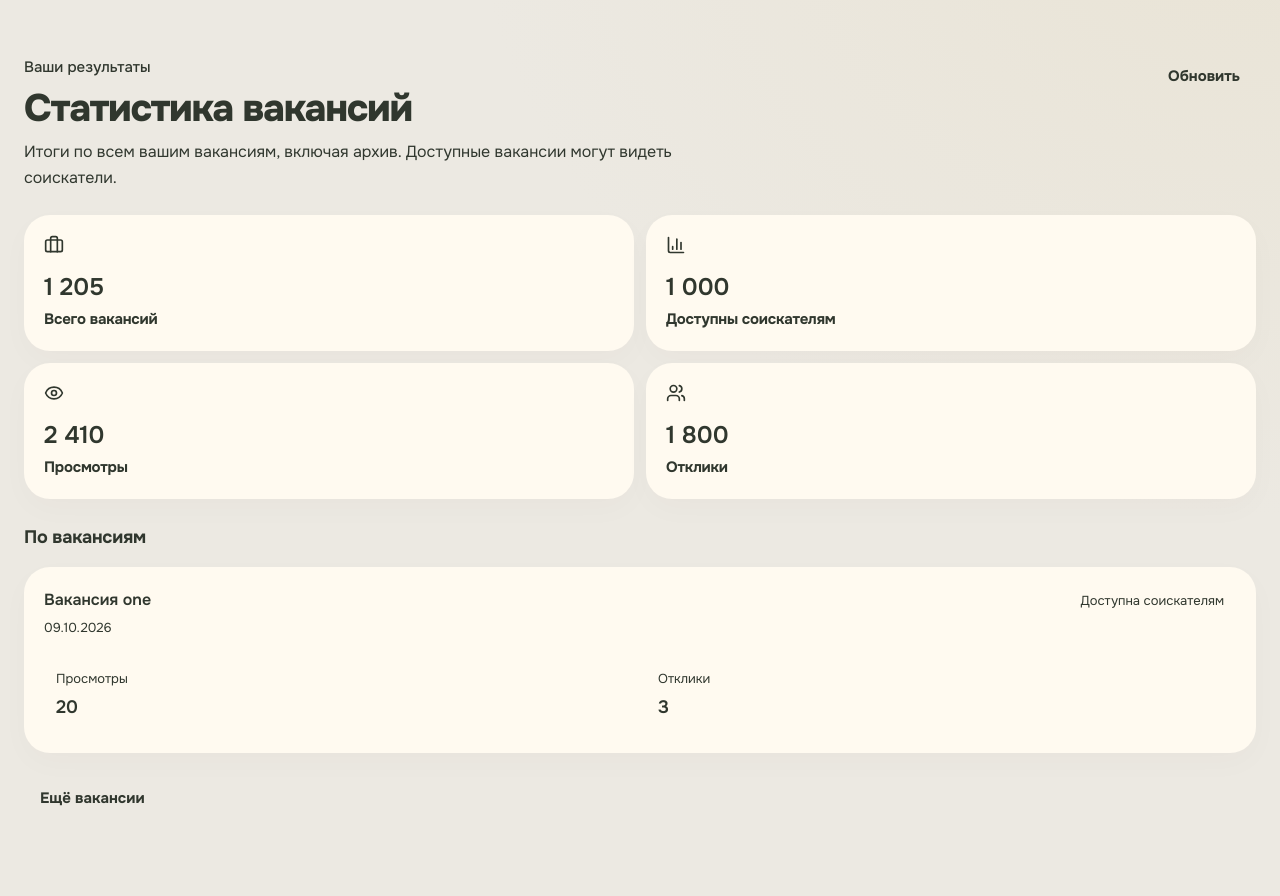
Test: a 401 continuation hides previously loaded private statistics
The image size is (1280, 896).
(page scrolled)
expect the link "Вакансия one" is shown: met, box [44,589,151,610]
Click the button "Ещё вакансии": (92,799) [24,777,161,821]
(page scrolled)
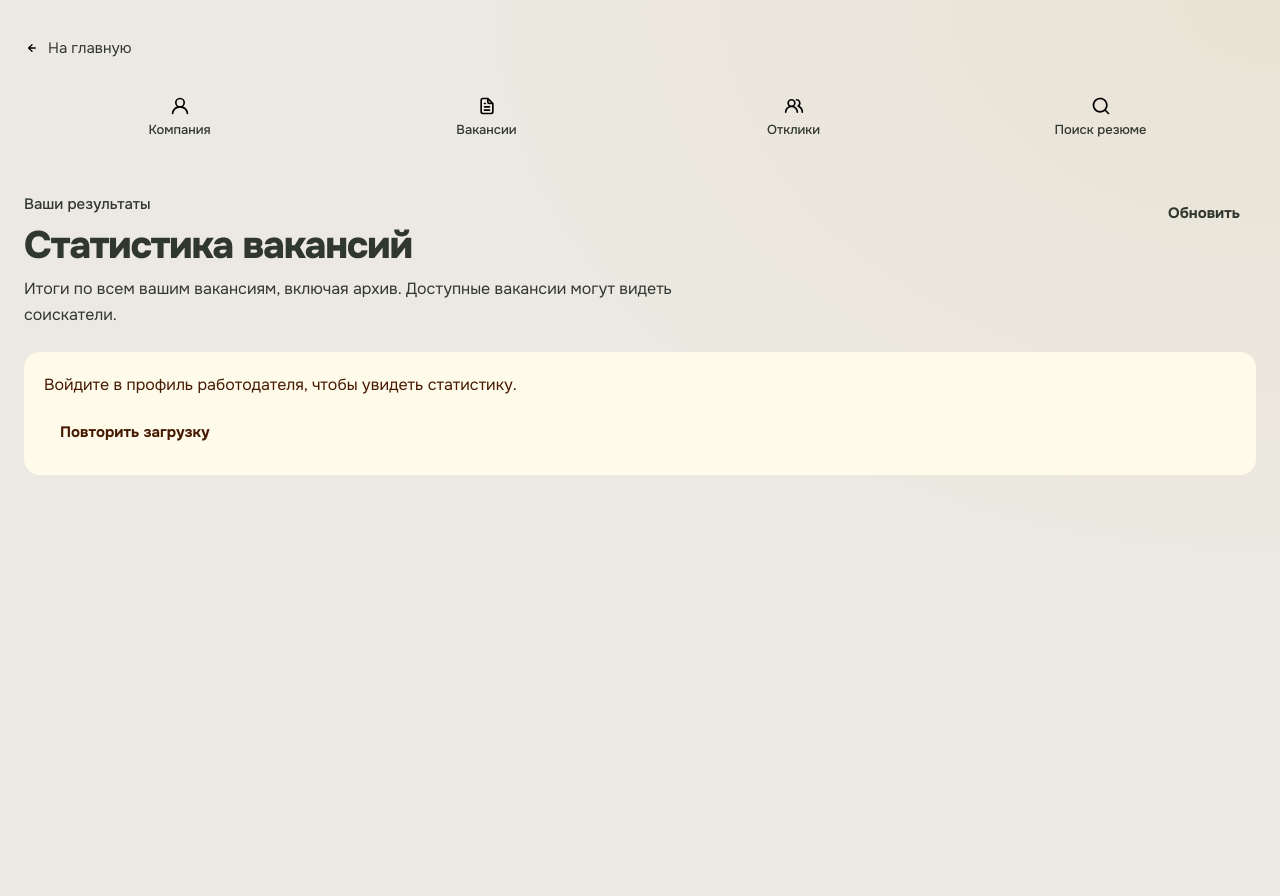
expect the message "Войдите в профиль работодателя, чтобы увидеть статистику. Повторить загрузку" is shown: met, box [24,352,1256,475]
expect the link "Вакансия one" is gone: met
expect the heading "Всего вакансий" is gone: met
